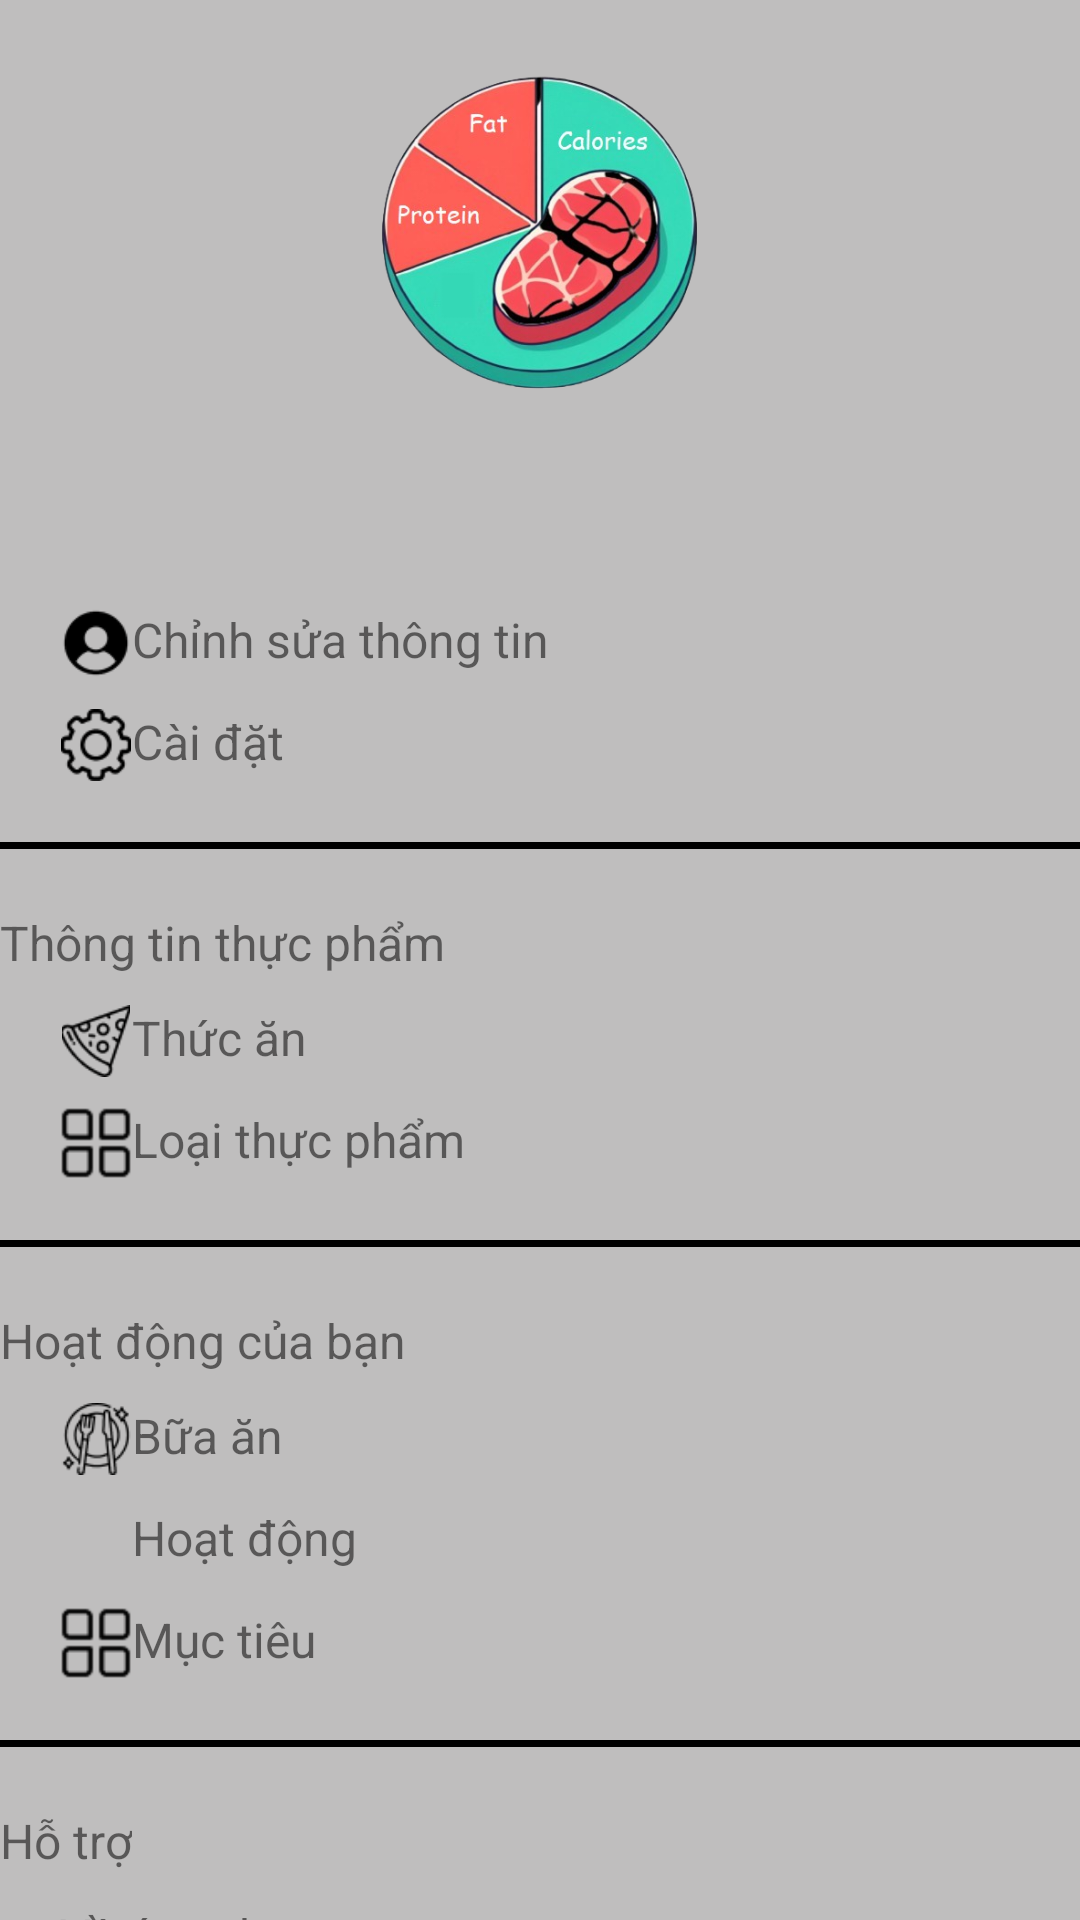

Icon click points for this 1080w x 1920h phone screenshot, format (x=x, y=y):
category: (x=96, y=1143), (x=96, y=1643)
meal: (x=96, y=1439)
setting: (x=96, y=745)
thuc an: (x=96, y=1041)
user: (x=96, y=643)
